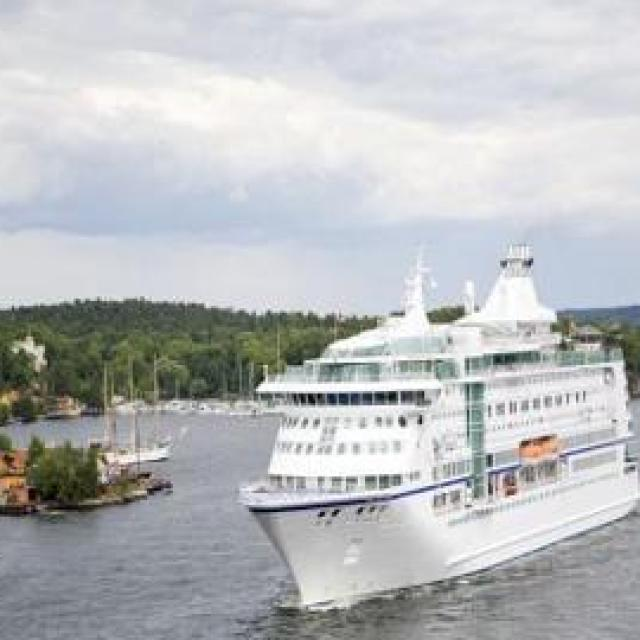passenger ship: (242, 256, 640, 607)
